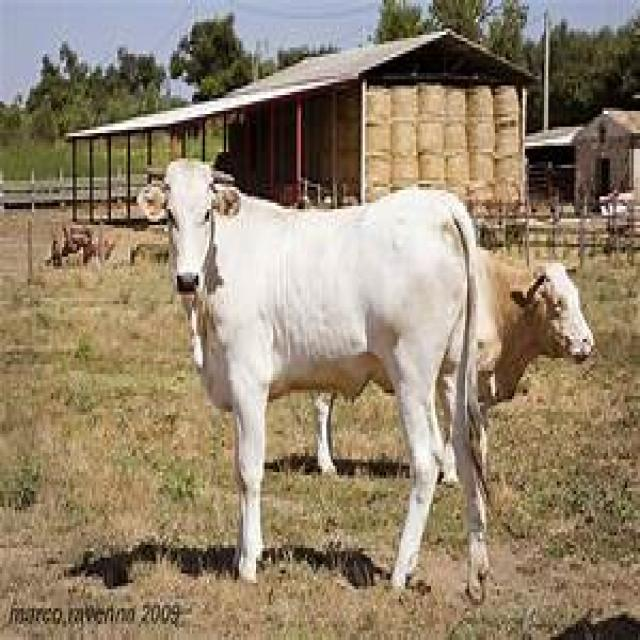cow: (170, 163, 594, 599), (159, 162, 488, 599)
